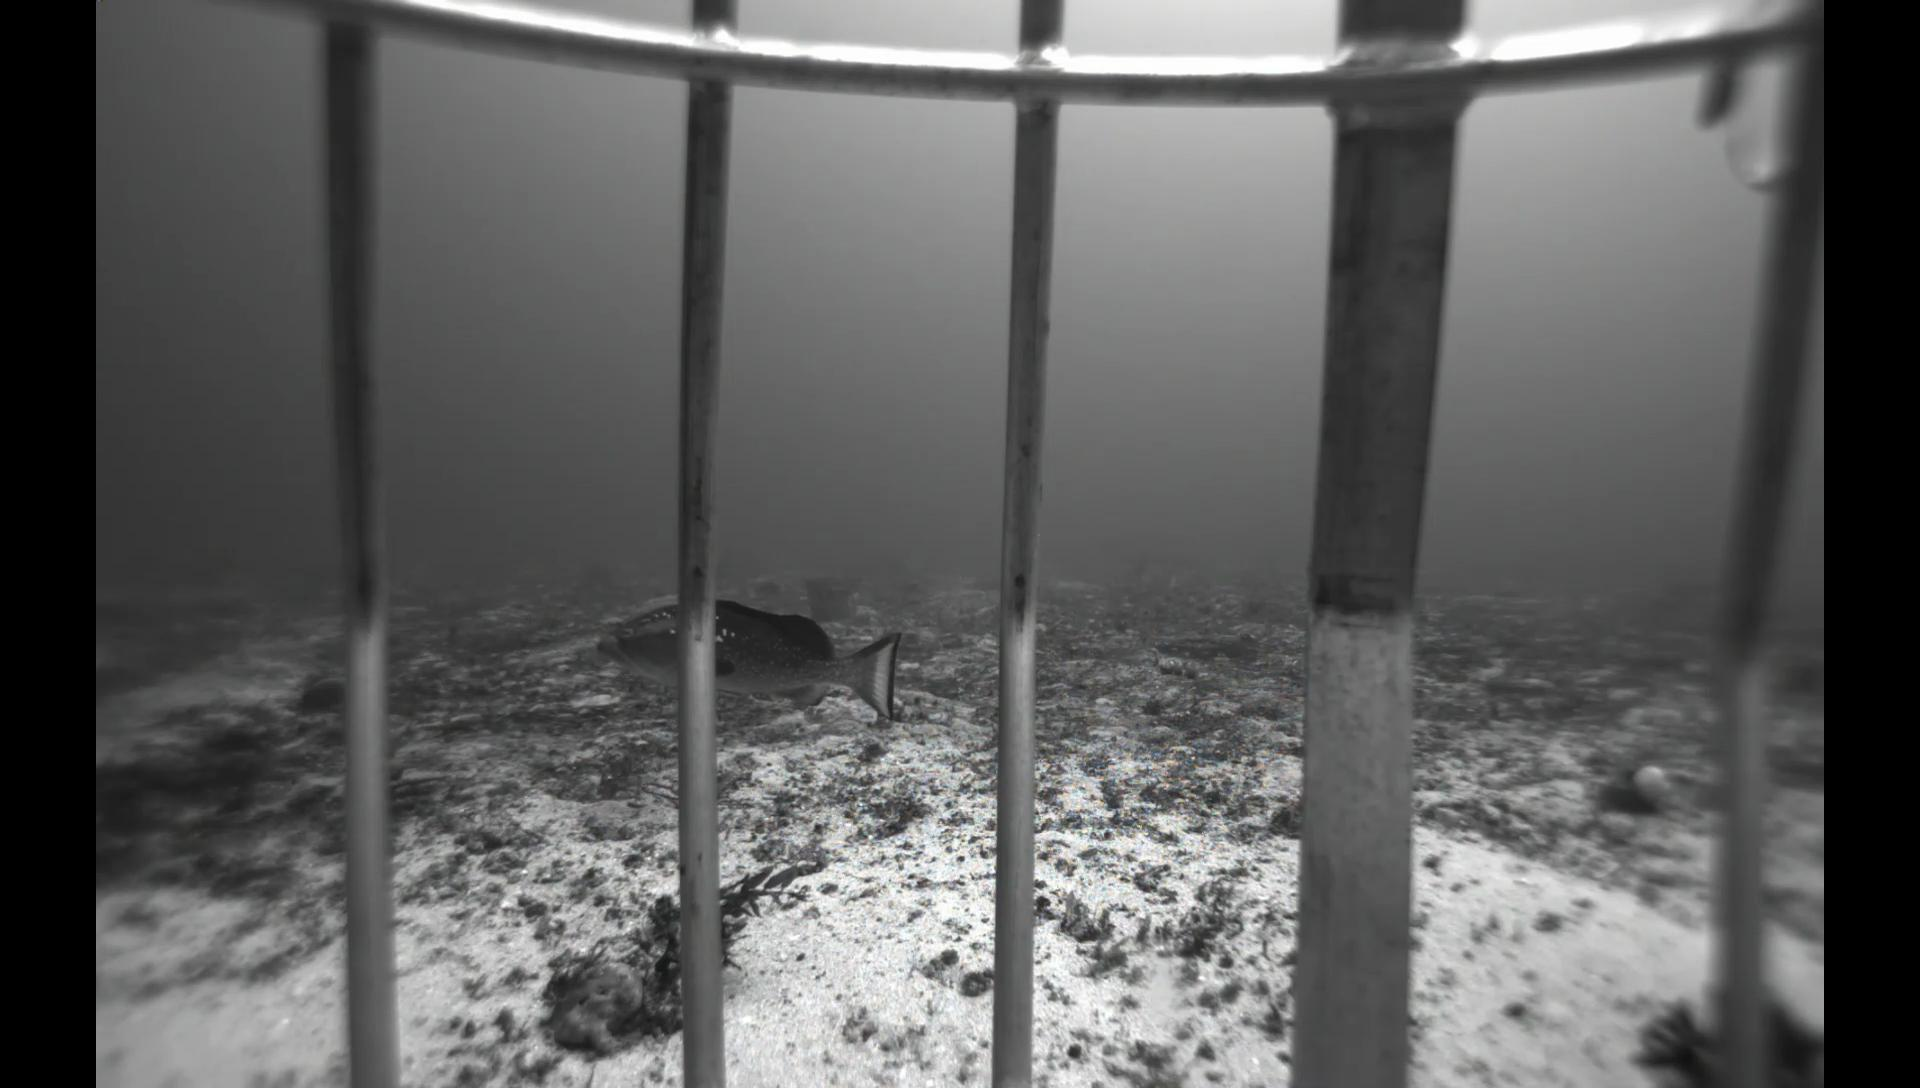CHAETODONOCELLATUS-170260307: (1137, 570, 1156, 586), (1167, 572, 1180, 593)
EPINEPHELUSMORIO-170021211: (592, 597, 903, 731)
HALICHOERESBIVITTATUS-170281202: (190, 711, 237, 742)
PRISTIGENYSALTA-170050401: (287, 674, 345, 717)
